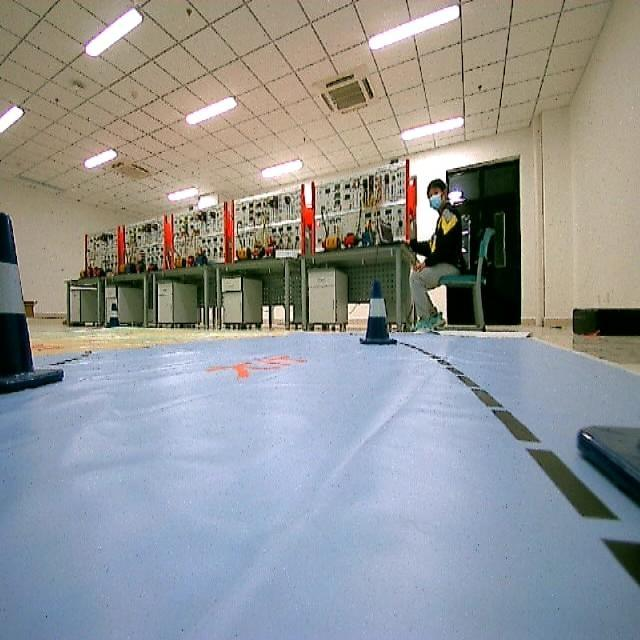obstacle: (0, 212, 62, 400), (361, 281, 396, 349)
